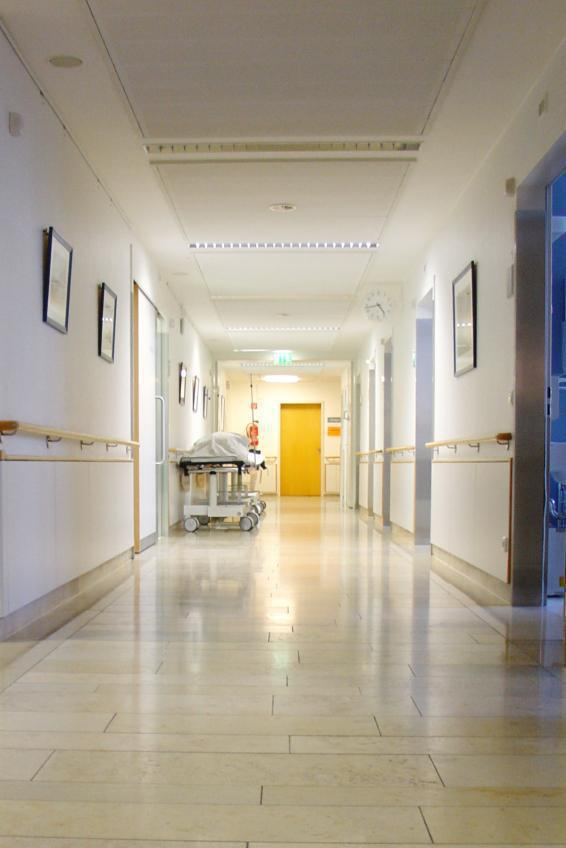Cama: (185, 453, 268, 532)
